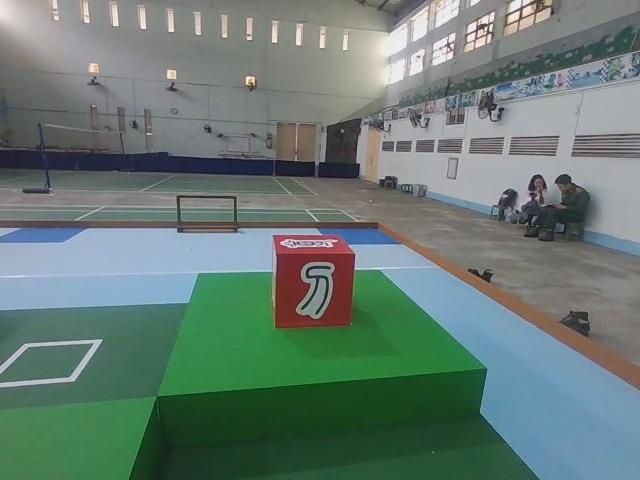R2 Fake: (267, 229, 357, 332)
